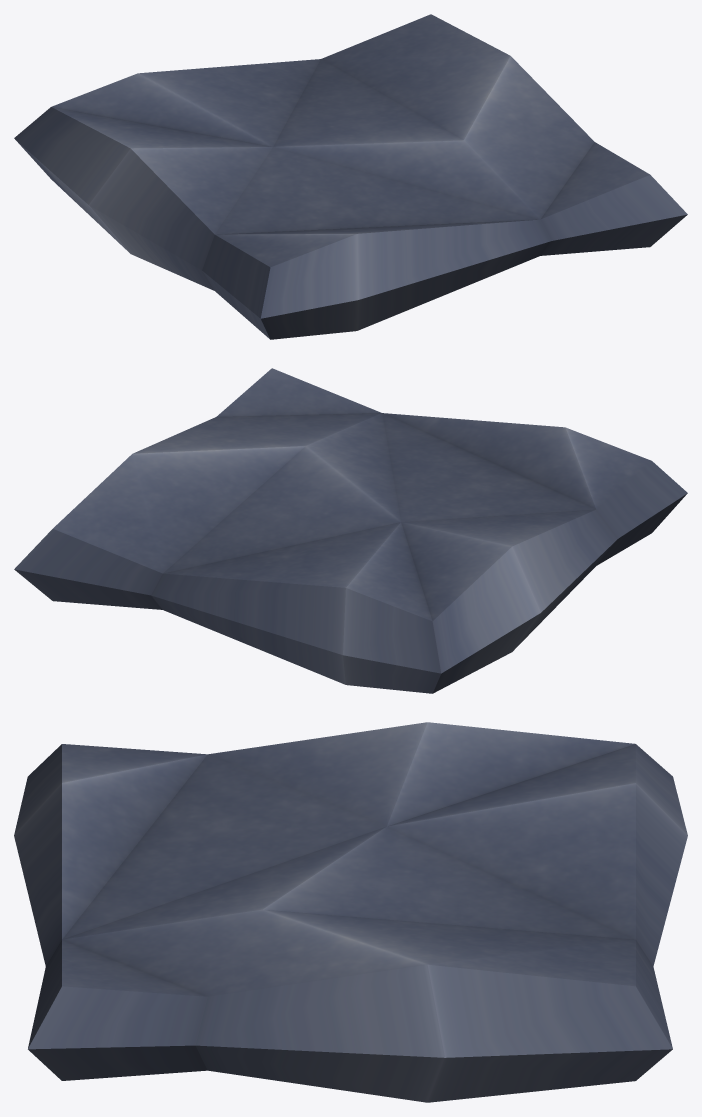
File: TopBottomWalls.fbx
3 renders of one model, top to bottom at view 1: azimuth 30°, elevation 25°; view 2: azimuth 150°, elevation 25°; view 3: azimuth 270°, elevation 25°, orthographic. The views are drawn at different scales.
Parts seen in each view (by area): view 1: pCube205; view 2: pCube205; view 3: pCube205.
Part boxes in pixels (x1,y1,x2,y2): pCube205: [14, 14, 687, 339]; pCube205: [14, 368, 687, 693]; pCube205: [14, 722, 687, 1102].
Size of the model in its own units: 119 by 26.56 by 117.
